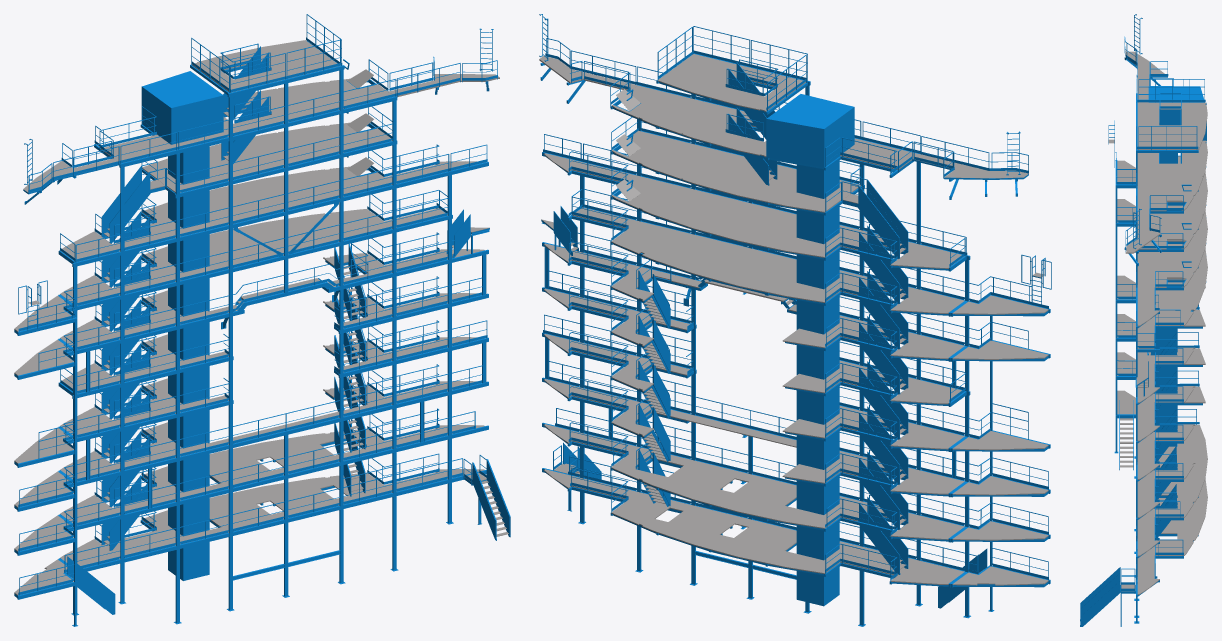
Rendered from HO side C.fbx.
3 views of the same model, side by side, from view 1: azimuth 30°, elevation 25°; view 2: azimuth 150°, elevation 25°; view 3: azimuth 270°, elevation 25° (orthographic). The views are drawn at different scales.
Visible parts, largest first — view 1: !HO Side C, HO Side C Lift.002, HO Side C Stears.185, HO Side C Stears.215, HO Side C Stears.214; view 2: !HO Side C, HO Side C Lift.002, HO Side C Stears.214, HO Side C Stears.203, HO Side C Stears.215, HO Side C Stears.192, HO Side C Stears.197, HO Side C Stears.200, HO Side C Stears.213, HO Side C Stears.204, HO Side C Stears.199; view 3: !HO Side C, HO Side C Lift.002, HO Side C Stears.218, HO Side C Stears.219, HO Side C Stears.188, HO Side C Stears.187, HO Side C Stears.217.
Boxes of the visible parts, x1,y1,x2,y2 form: !HO Side C: [14, 14, 510, 626]; HO Side C Lift.002: [168, 146, 209, 579]; HO Side C Stears.185: [76, 563, 115, 613]; HO Side C Stears.215: [109, 172, 149, 242]; HO Side C Stears.214: [101, 166, 141, 236]; !HO Side C: [539, 14, 1051, 626]; HO Side C Lift.002: [796, 161, 839, 605]; HO Side C Stears.214: [859, 186, 899, 258]; HO Side C Stears.203: [859, 278, 899, 349]; HO Side C Stears.215: [867, 179, 908, 251]; HO Side C Stears.192: [859, 459, 899, 529]; HO Side C Stears.197: [859, 504, 899, 574]; HO Side C Stears.200: [859, 324, 899, 393]; HO Side C Stears.213: [859, 369, 898, 438]; HO Side C Stears.204: [859, 234, 898, 303]; HO Side C Stears.199: [859, 414, 898, 483]; !HO Side C: [1080, 14, 1207, 626]; HO Side C Lift.002: [1151, 153, 1177, 508]; HO Side C Stears.218: [1080, 573, 1120, 625]; HO Side C Stears.219: [1080, 567, 1120, 608]; HO Side C Stears.188: [1155, 452, 1176, 497]; HO Side C Stears.187: [1155, 490, 1176, 535]; HO Side C Stears.217: [1155, 340, 1176, 381].
Size of what is drawn, in the model's own units: 2903 by 3090 by 755.
